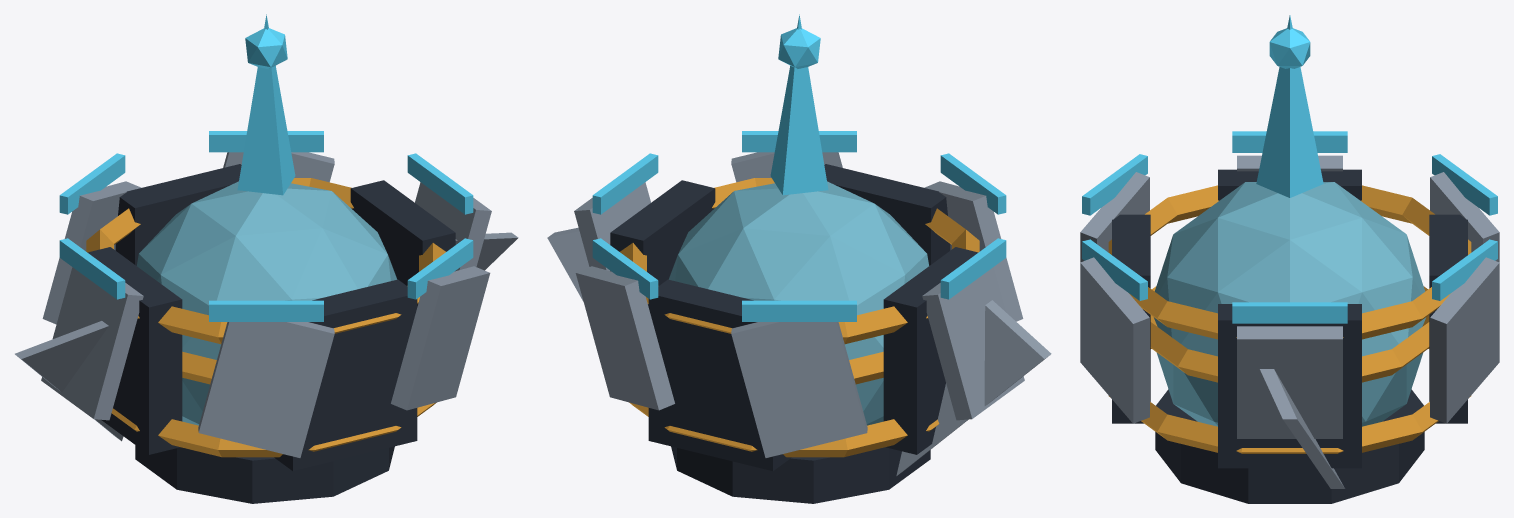
Rendered from BubbleB2.obj.
3 views of the same model, side by side, from view 1: azimuth 30°, elevation 25°; view 2: azimuth 150°, elevation 25°; view 3: azimuth 270°, elevation 25° (orthographic).
Visible parts, largest first — view 1: BubbleB2; view 2: BubbleB2; view 3: BubbleB2.
Boxes of the visible parts, x1,y1,x2,y2 form: BubbleB2: [15, 14, 518, 503]; BubbleB2: [547, 14, 1051, 503]; BubbleB2: [1080, 15, 1499, 503].
Size of the model in its own units: 1.2 by 1 by 0.8721.
